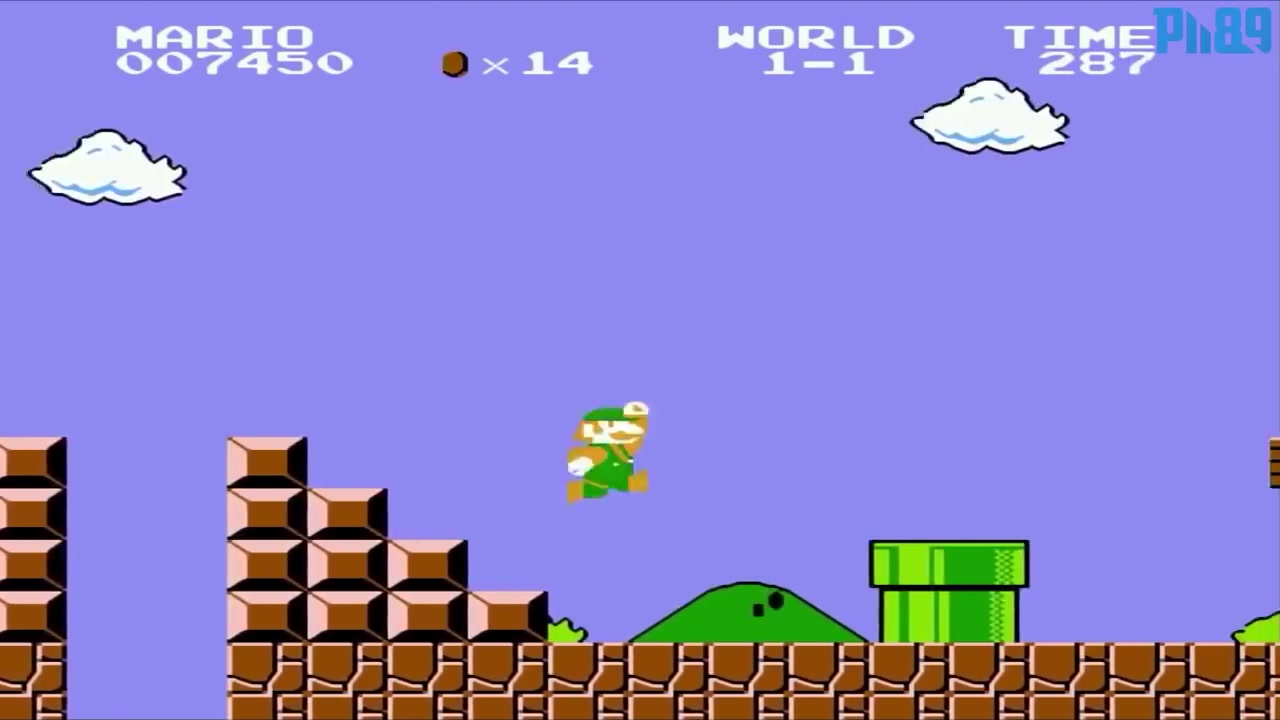mario: (563, 394, 683, 514)
